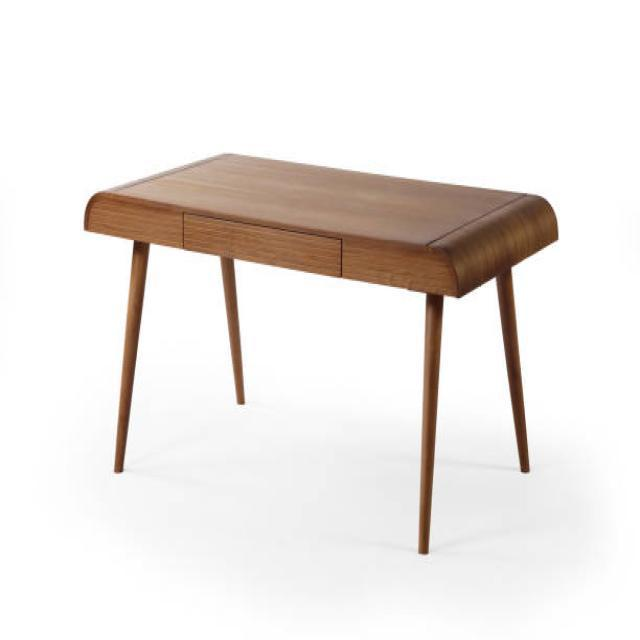table: (82, 149, 558, 554)
